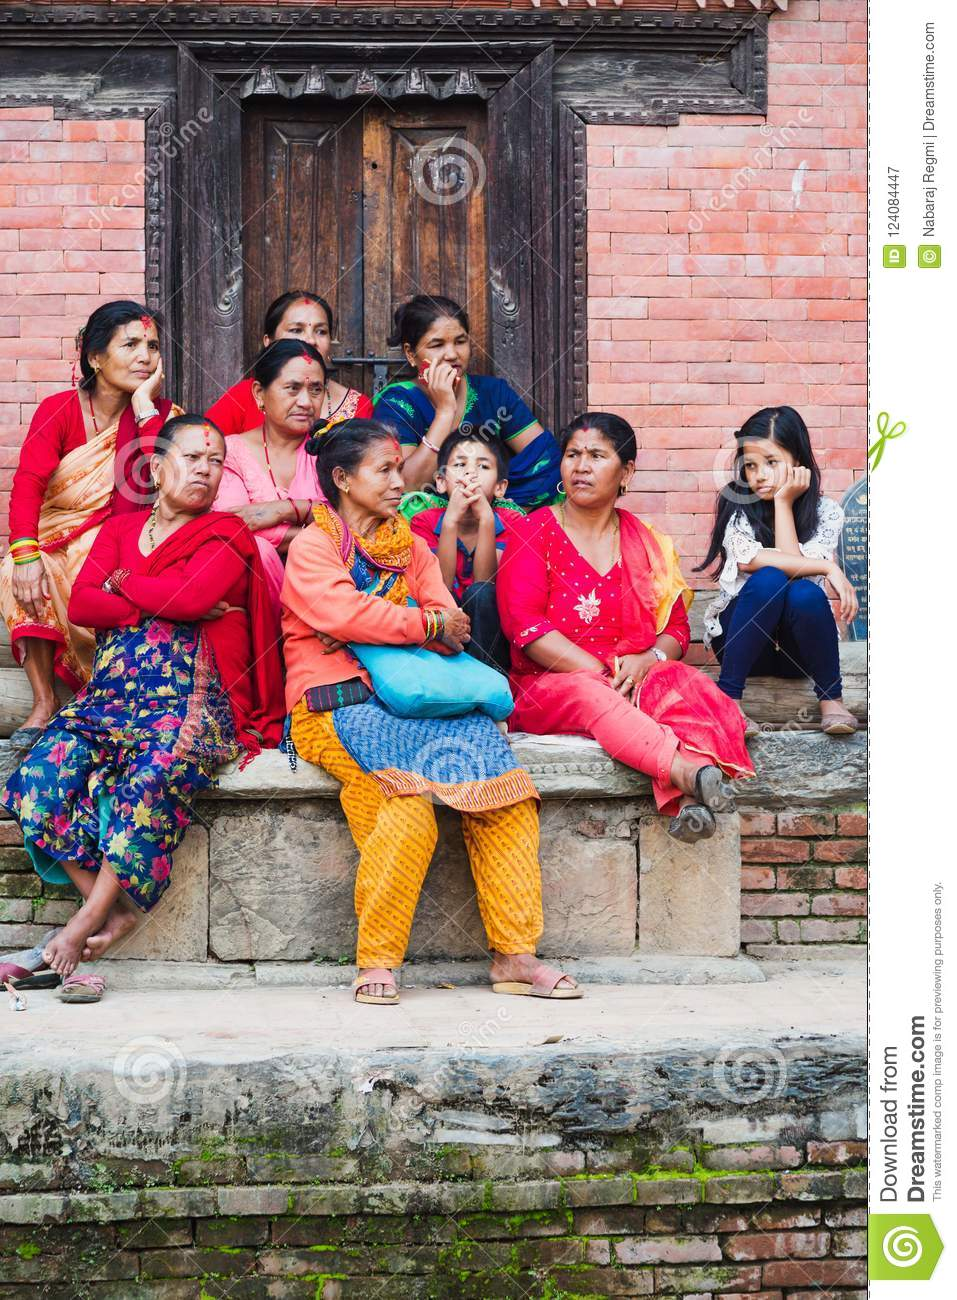human: (273, 409, 590, 1027), (1, 396, 296, 1007), (490, 392, 779, 848), (1, 283, 190, 730), (701, 402, 882, 761), (358, 294, 597, 530), (208, 337, 333, 553)
